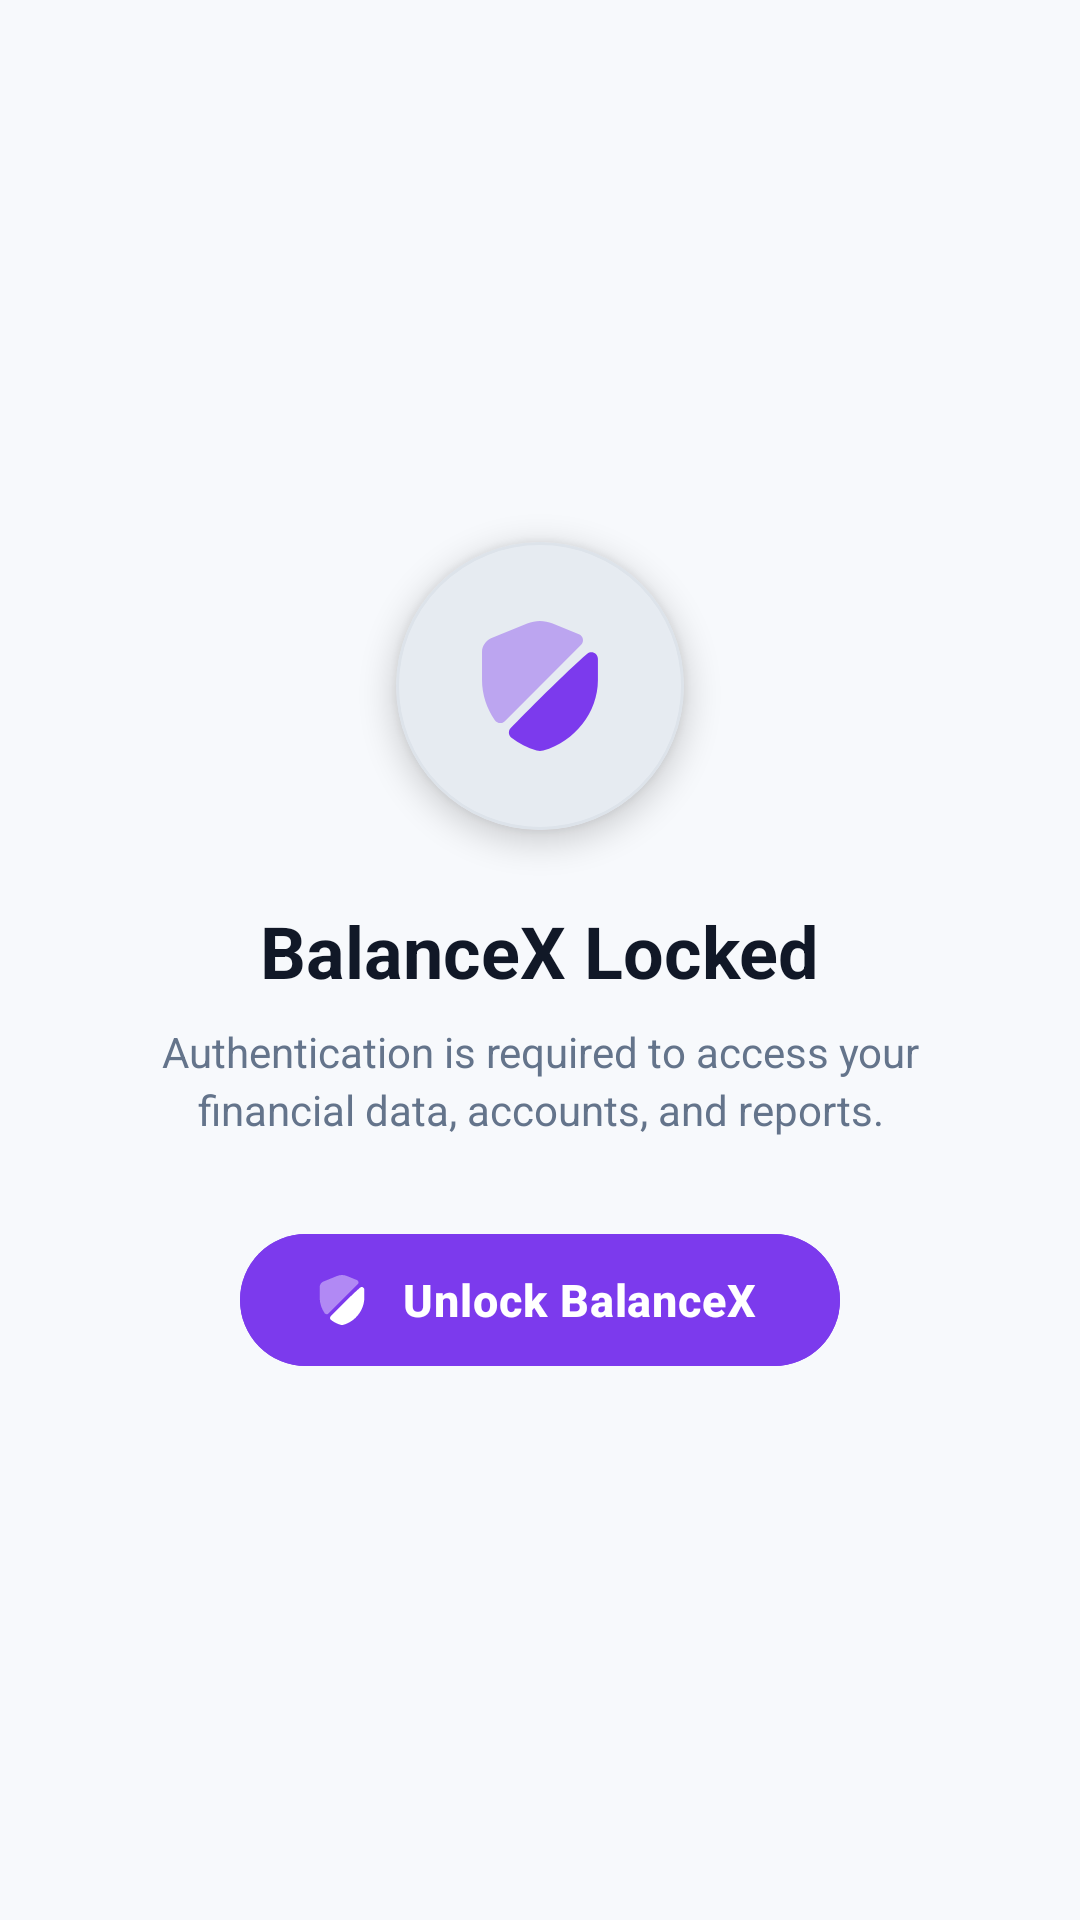

Point at icon controls on the screen. Image size 1080px×1920px, points as (x=x, y=y).
Vault lock shield: (x=540, y=686)
